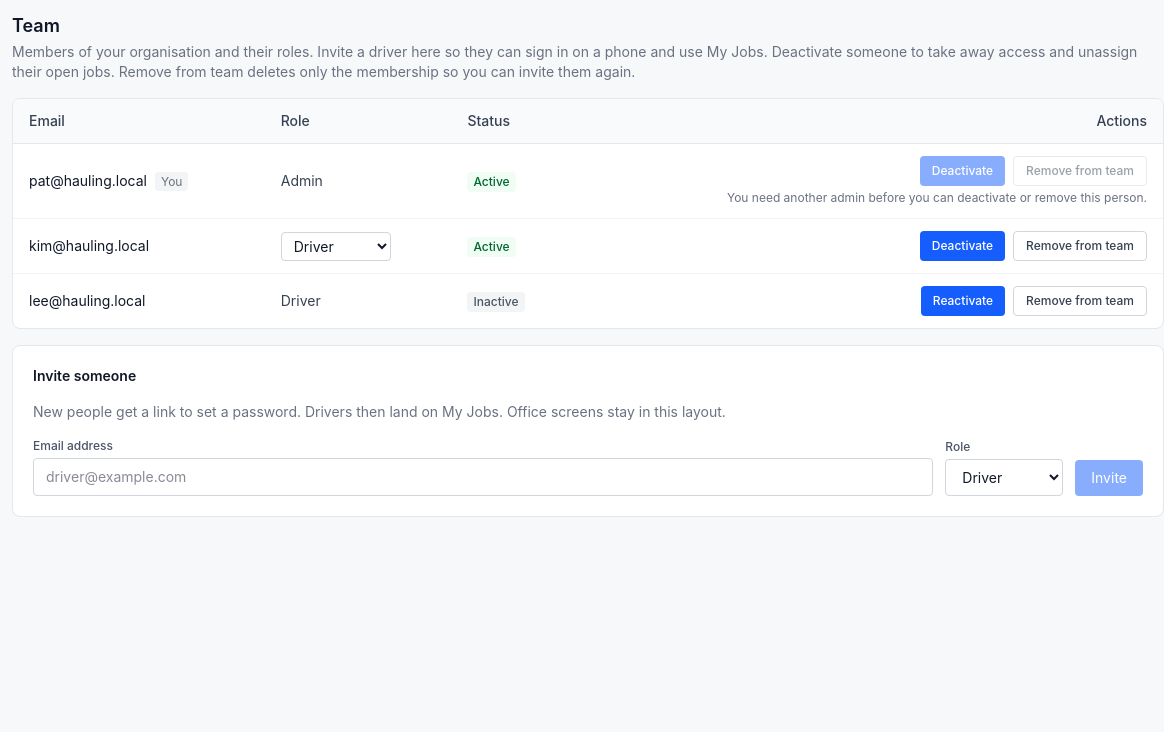
Test: TeamSection › deactivates a driver through the membership RPC
Expected: the text "kim@hauling.local" is shown, x1=29 y1=237 x2=149 y2=254
Click the button "Deactivate" in the row of "kim@hauling.local" at (962, 246), box x1=920 y1=231 x2=1005 y2=261
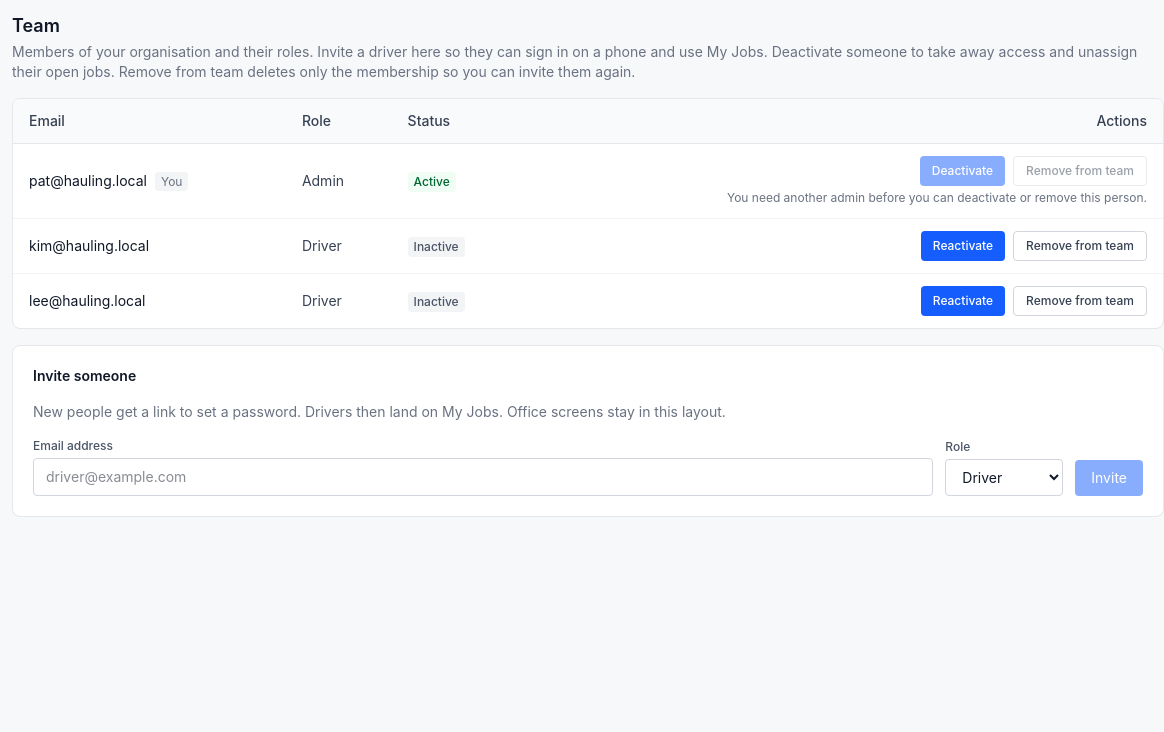
Expected: the text "Inactive" in the row of "kim@hauling.local" is shown, x1=414 y1=238 x2=459 y2=254
Expected: the button "Reactivate" in the row of "kim@hauling.local" is shown, x1=921 y1=231 x2=1005 y2=261
